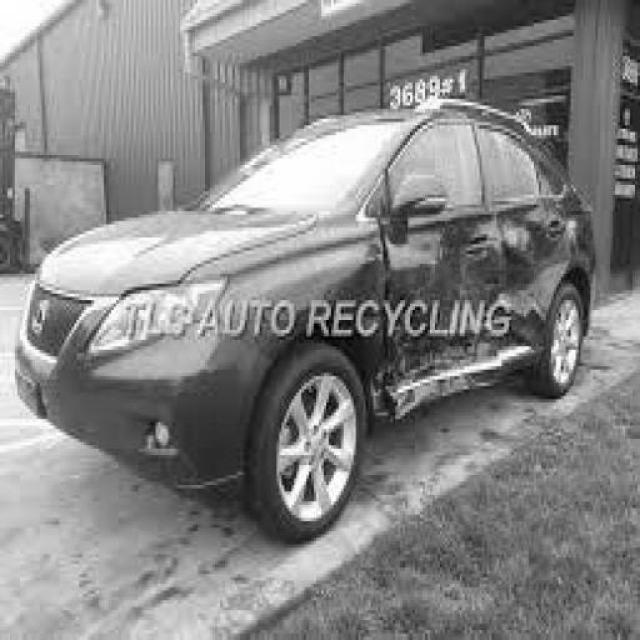dent: (388, 255, 517, 414), (496, 210, 544, 259)
scratch: (396, 339, 540, 393), (493, 291, 548, 327), (559, 213, 584, 257)
